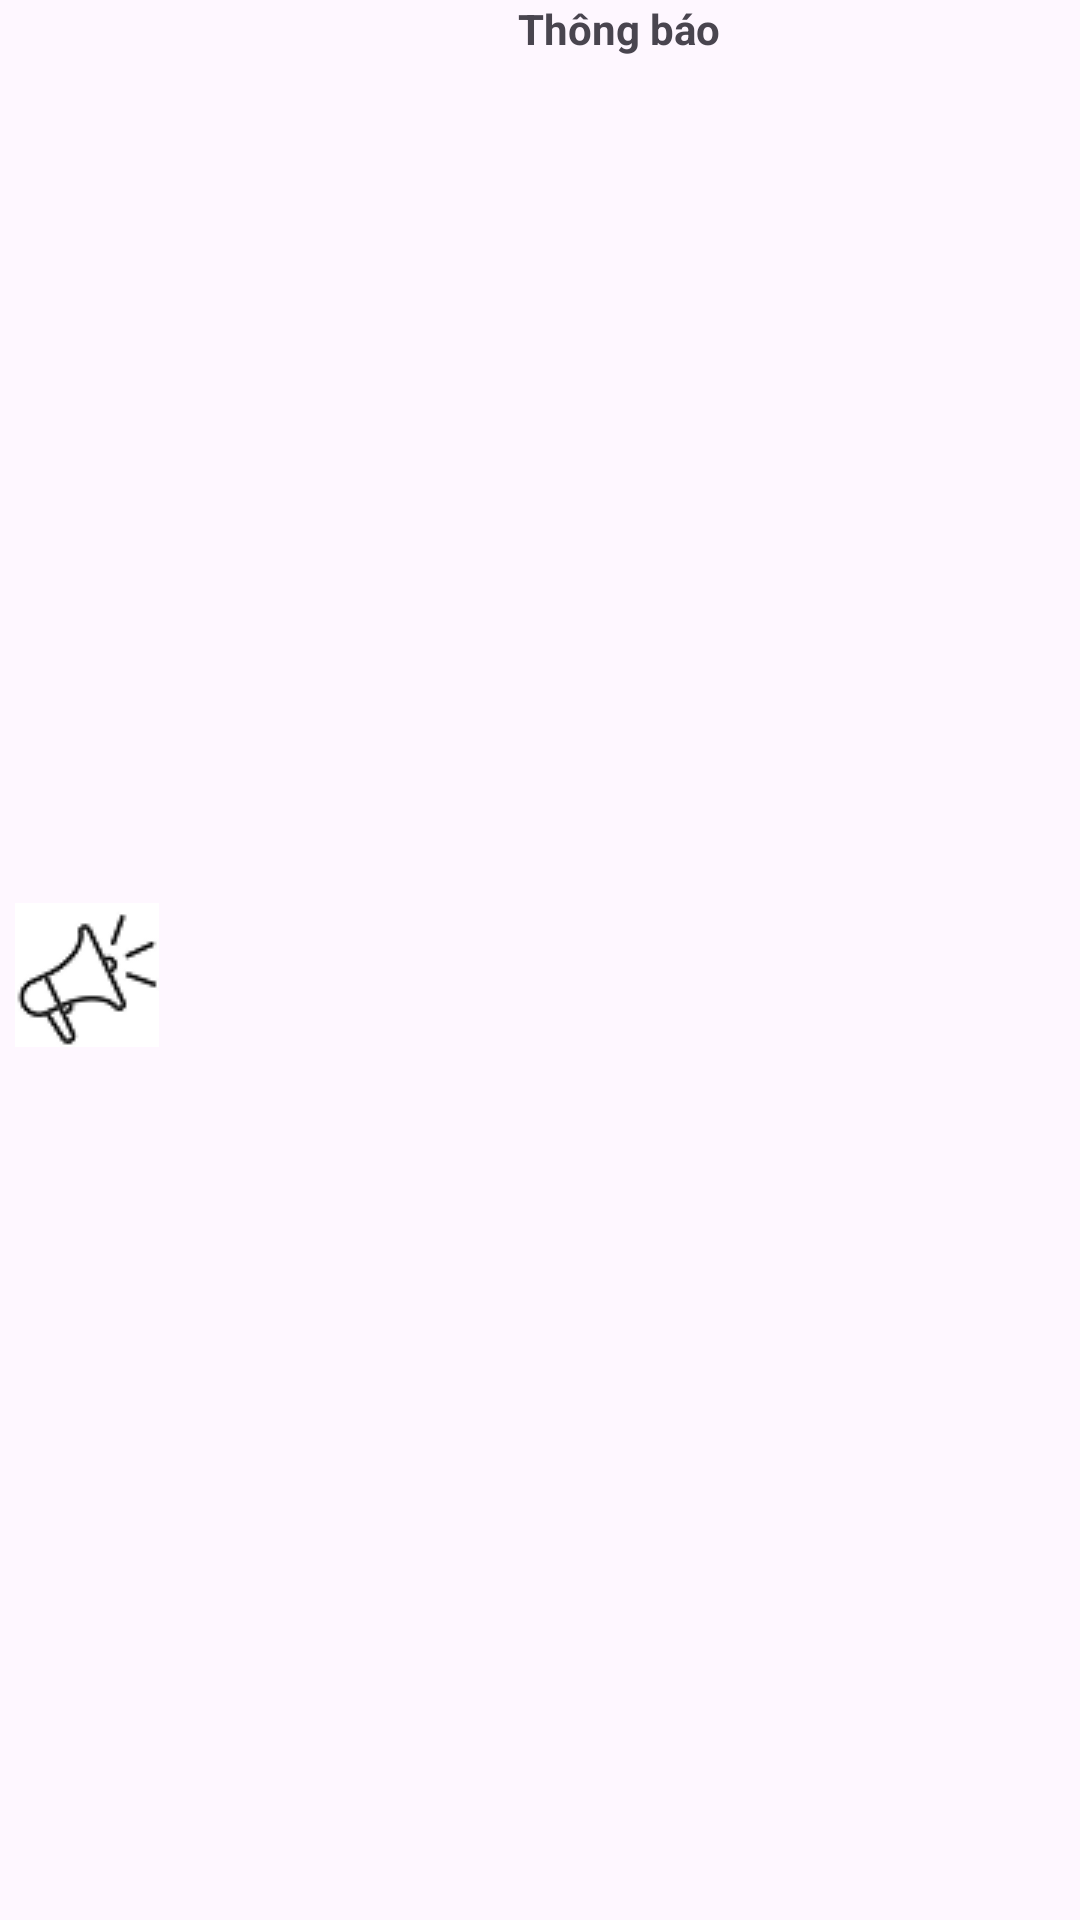

Locate icon controls on the screen. Image size 1080px×1920px, boxes as rect(x1, y1, x2, y2).
noti: rect(17, 914, 157, 1045)
